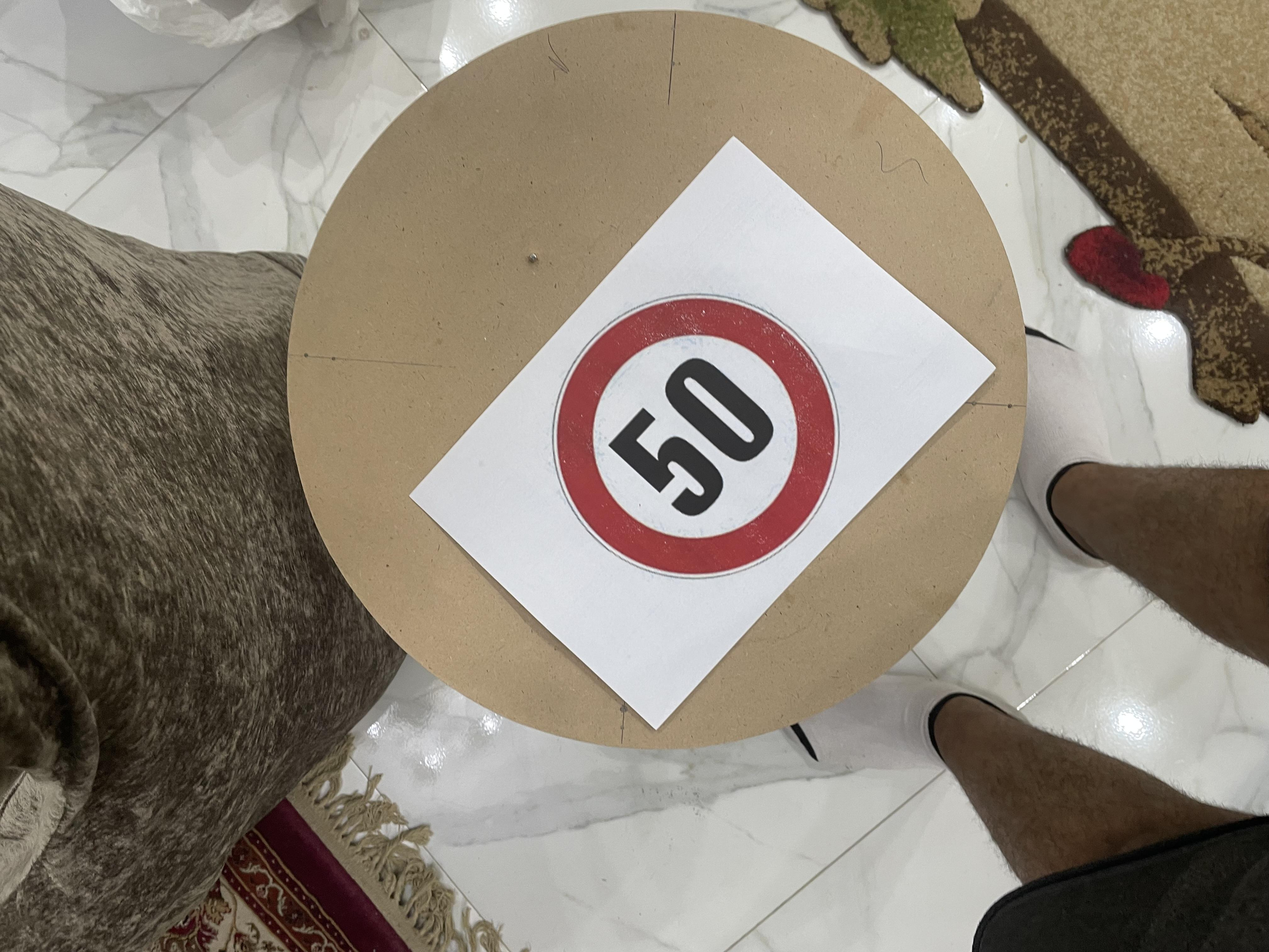50-Speed: (513, 400, 878, 628)
